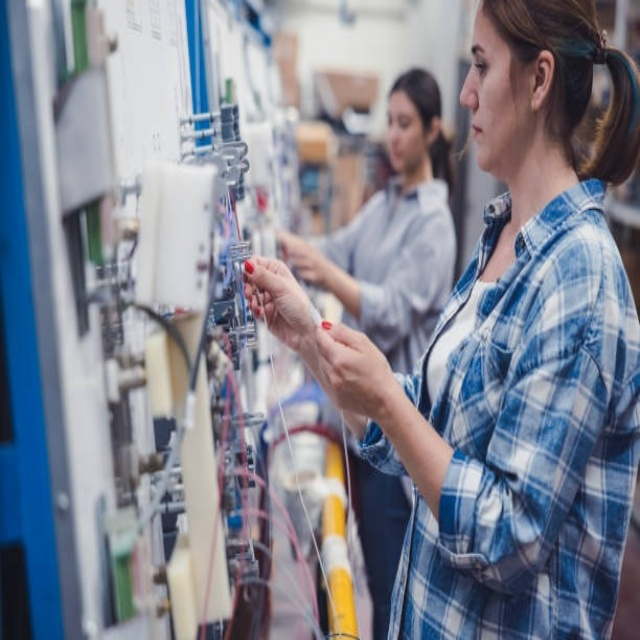Sin_gafas: (470, 35, 506, 88), (386, 105, 414, 136)
Sin_guantes: (289, 314, 392, 424), (239, 252, 326, 354)
Sin_mascara: (466, 107, 500, 168), (388, 140, 408, 168)
